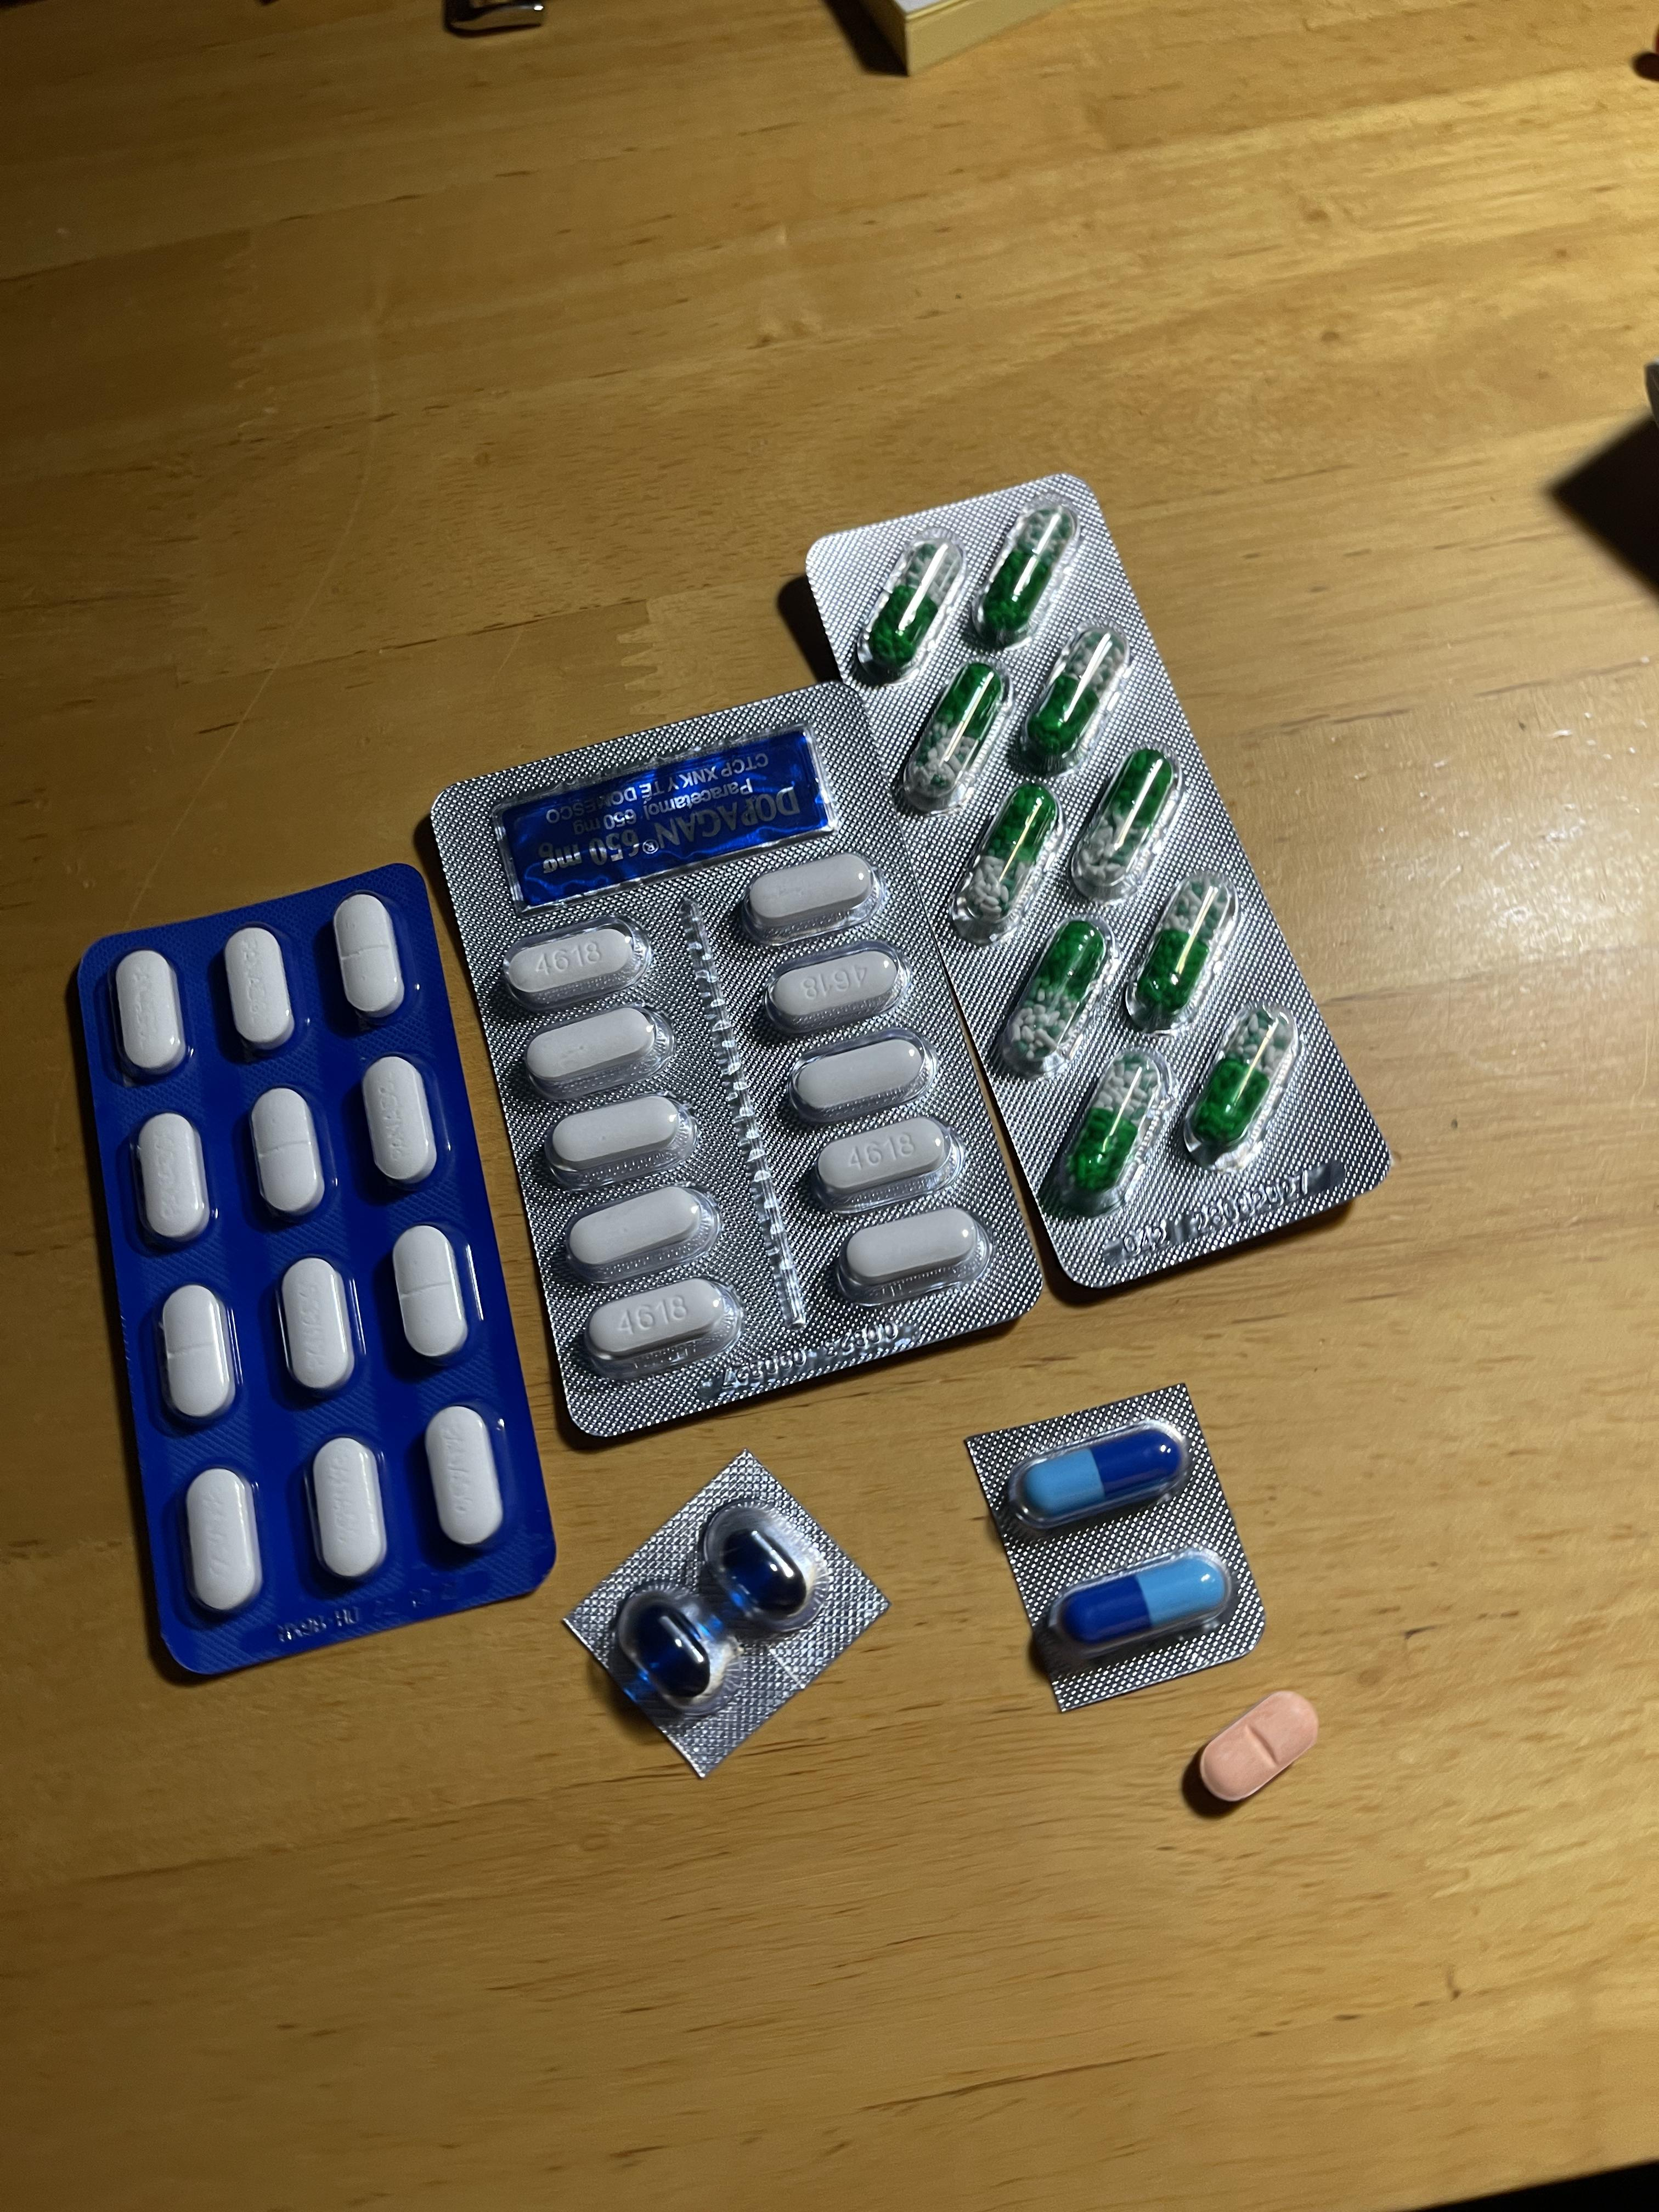Lincomyxin_500mg: (626, 1601, 714, 1700), (720, 1526, 809, 1613)
Loratadine_10mg: (1194, 1689, 1319, 1804)
Paracetamol_350mg: (307, 1435, 389, 1585), (181, 1467, 261, 1616), (423, 1406, 505, 1552), (159, 1284, 235, 1426), (279, 1256, 357, 1395), (247, 1087, 328, 1221), (134, 1111, 213, 1247), (392, 1226, 471, 1362), (361, 1055, 439, 1188), (113, 949, 186, 1078), (223, 927, 295, 1054), (331, 895, 404, 1019)
Paracetamol_500mg: (830, 1202, 985, 1303), (802, 1115, 960, 1211), (579, 1275, 734, 1371), (788, 1035, 938, 1132), (558, 1183, 709, 1278), (734, 848, 880, 946), (538, 1090, 692, 1181), (762, 946, 906, 1038), (519, 1007, 666, 1096), (498, 925, 647, 1010)
Paracetamol_650mg: (1044, 1050, 1169, 1216), (993, 916, 1112, 1078), (1016, 625, 1131, 775), (1124, 873, 1236, 1026), (1185, 1007, 1297, 1157), (1068, 751, 1182, 895), (953, 786, 1061, 937), (969, 502, 1080, 648), (899, 660, 1011, 806), (854, 531, 964, 679)
pill: (1056, 1550, 1227, 1649), (1021, 1423, 1183, 1521)
